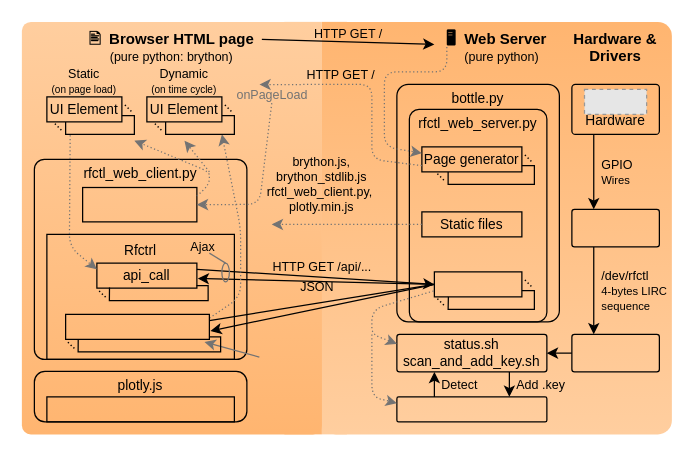
Some shapes in this 693 by 455 pixel diagram are drawn without their labels. Grey dashed boxes stand in for pictures. Each missing label, with the centre of its shape:
".key files path: keys/" goes at (x=471, y=409).
"API handler" goes at (x=477, y=284).
"ApiCallTimeRefresh" goes at (x=136, y=326).
"build_page_..." goes at (x=139, y=204).
"Plotly" goes at (x=140, y=409).
"rfctl kernel module" goes at (x=615, y=227).
"rfdetect.py rfanalysis.py" goes at (x=615, y=352).
"↻ Refresh time cycle" goes at (x=302, y=227).
